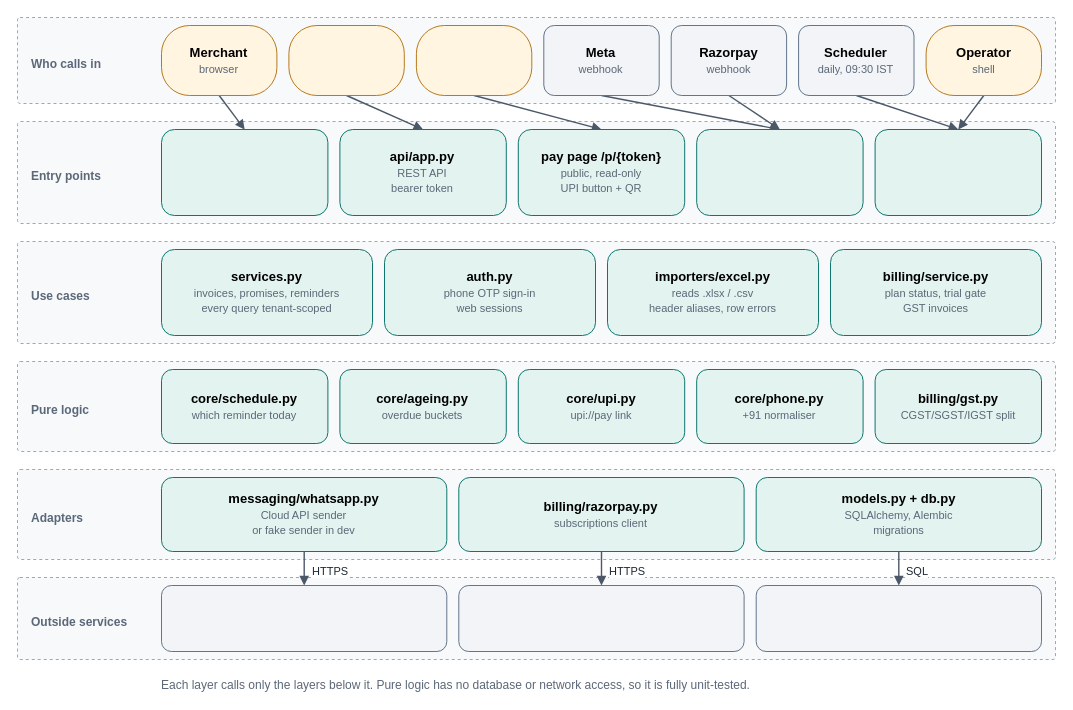
The diagram is 1073 pixels wide and 710 high, and some of its shapes have lost their labels. The centre of each missing label's shape, as x and y in pixels:
"api/web.py Dashboard /app/* cookie session + CSRF" belongs at point (244, 172).
"cli.py invite · add-user migrate · run-reminders" belongs at point (958, 172).
"Customer phone browser" belongs at point (473, 60).
"Meta Graph API WhatsApp messages" belongs at point (303, 618).
"PostgreSQL SQLite in local dev" belongs at point (898, 618).
"Razorpay API our fee only" belongs at point (601, 618).
"Script curl / API client" belongs at point (346, 60).
"webhooks /webhooks/whatsapp /webhooks/razorpay" belongs at point (779, 172).
